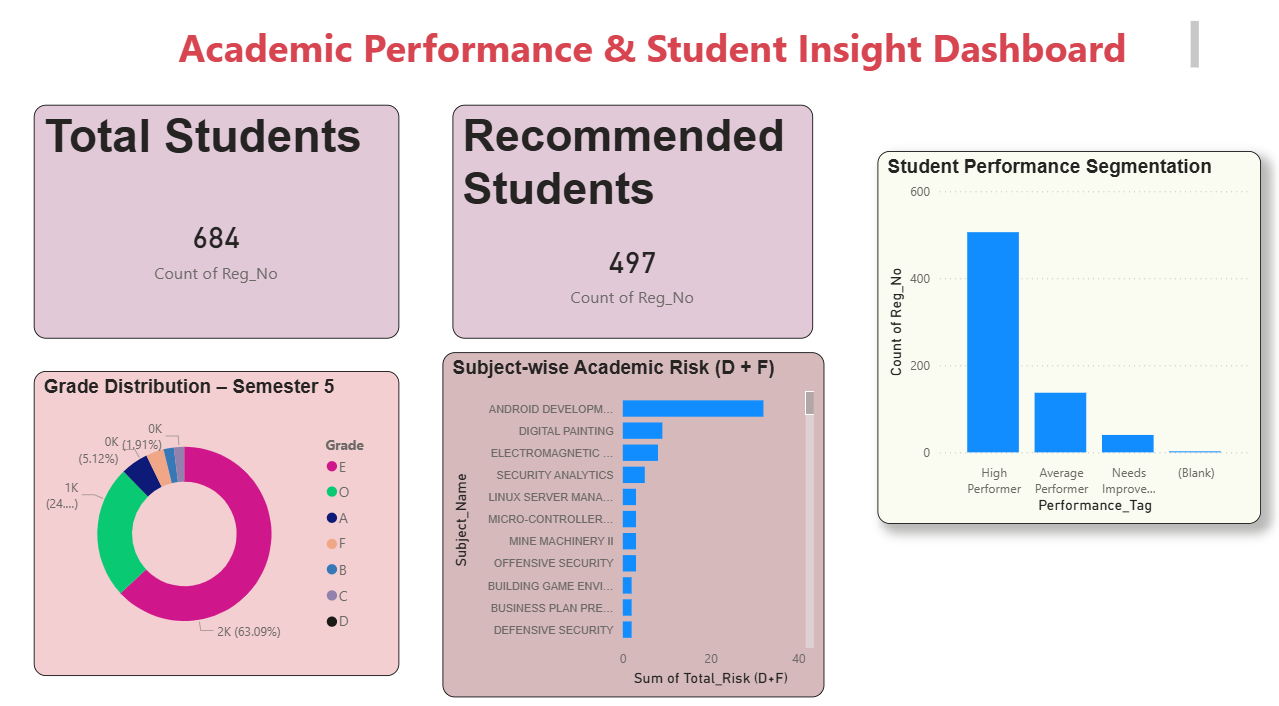

This screenshot's page, from the dashboard's own definition file:
{"tool":"powerbi","page":{"name":"Semester Performance Overview","canvas":[1280,720],"ordinal":0},"visuals":[{"type":"donutChart","title":"Grade Distribution – Semester 5 ","fields":{"Category":["Grade_Distribution.Grade "],"Y":["Grade_Distribution.Count"]},"box":[42.5,391.2,357.5,298.8],"z":0},{"type":"clusteredBarChart","title":"Subject-wise Academic Risk (D + F)","fields":{"Category":["Subject_Risk_Analysis.Subject_Name"],"Y":["Subject_Risk_Analysis.Total_Risk (D+F)"]},"box":[442.5,372.5,373.8,337.5],"z":1000},{"type":"card","title":"Total Students","fields":{"Values":["Recommendation_Analysis.Reg_No"]},"box":[42.5,131.2,357.5,228.8],"z":2000},{"type":"card","title":"Recommended Students","fields":{"Values":["Recommendation_Analysis.Reg_No"]},"box":[452.5,131.2,352.5,228.8],"z":3000},{"type":"clusteredColumnChart","title":"Student Performance Segmentation","fields":{"Category":["Recommendation_Analysis.Performance_Tag"],"Y":["Recommendation_Analysis.Reg_No"]},"box":[868.8,176.2,375,365],"z":4000},{"type":"textbox","box":[116.2,43.8,1071.2,65],"z":5000}]}

Visuals, with their boxes in screenshot pixels (x1, y1, x2, y2), scaled from the page's 1280x720 canvas onto the 1279x706 screenshot:
"Grade Distribution – Semester 5 " donutChart: crop(42, 384, 400, 677)
"Subject-wise Academic Risk (D + F)" clusteredBarChart: crop(442, 365, 816, 696)
"Total Students" card: crop(42, 129, 400, 353)
"Recommended Students" card: crop(452, 129, 804, 353)
"Student Performance Segmentation" clusteredColumnChart: crop(868, 173, 1243, 531)
textbox: crop(116, 43, 1186, 107)
